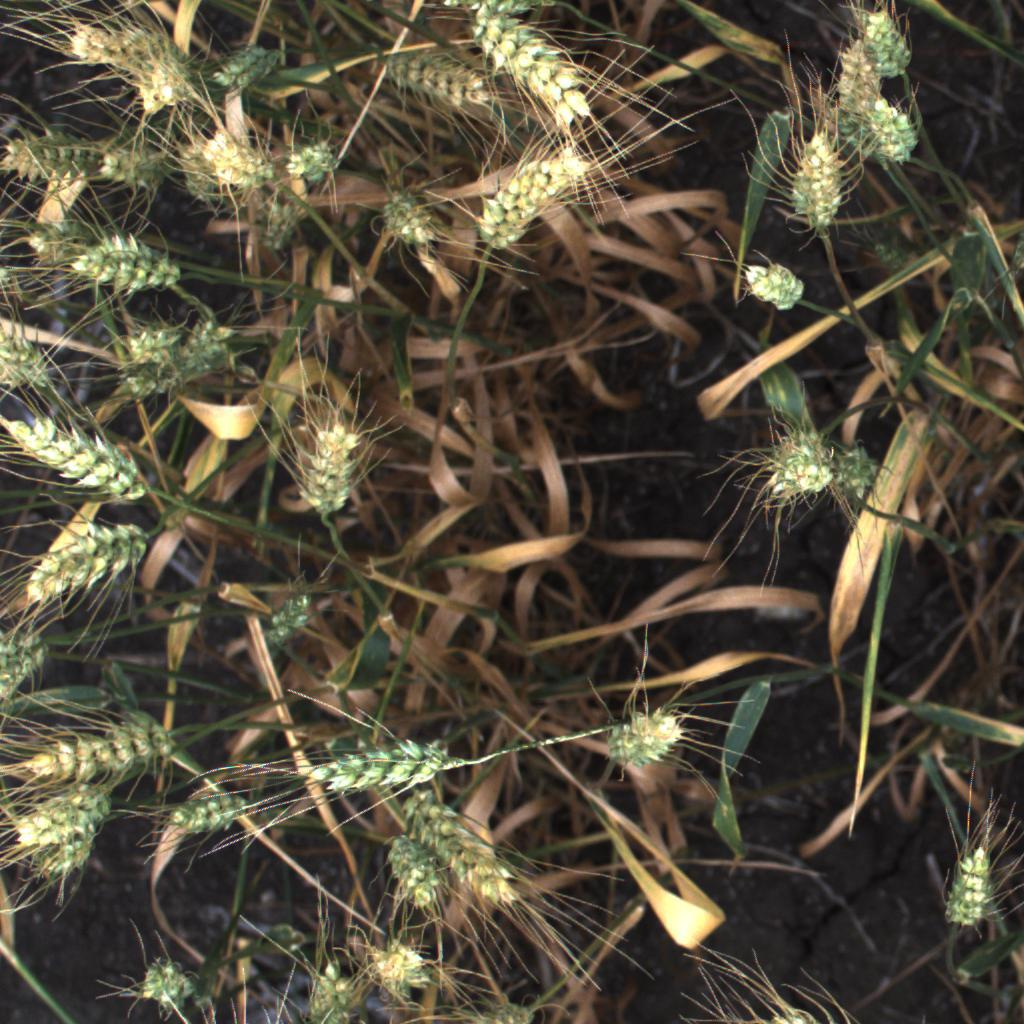0-0: (451, 0, 604, 123), (3, 404, 160, 514), (397, 785, 524, 914), (466, 141, 605, 250), (4, 706, 183, 787), (291, 725, 476, 799), (110, 313, 240, 410), (370, 33, 507, 119), (590, 694, 713, 781), (54, 222, 194, 296), (287, 411, 377, 523), (771, 122, 854, 242), (56, 9, 197, 77), (933, 832, 1012, 951), (43, 518, 147, 601), (724, 242, 823, 325), (346, 922, 443, 1005), (365, 824, 447, 917), (158, 774, 261, 848), (190, 124, 287, 198), (240, 579, 331, 655), (848, 0, 929, 83), (85, 136, 181, 205), (370, 178, 456, 254), (826, 29, 892, 128), (121, 945, 208, 1017), (290, 951, 375, 1023), (125, 47, 211, 118), (51, 785, 112, 883), (0, 120, 98, 179), (850, 94, 926, 169), (761, 426, 833, 496), (0, 616, 51, 704), (274, 135, 354, 189), (0, 329, 58, 401), (210, 40, 279, 88), (8, 795, 74, 843), (815, 448, 880, 494), (262, 202, 296, 248)
